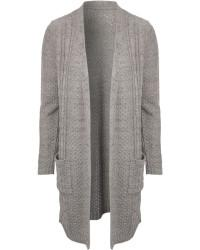S_cardigan sweater: (34, 8, 169, 243)
